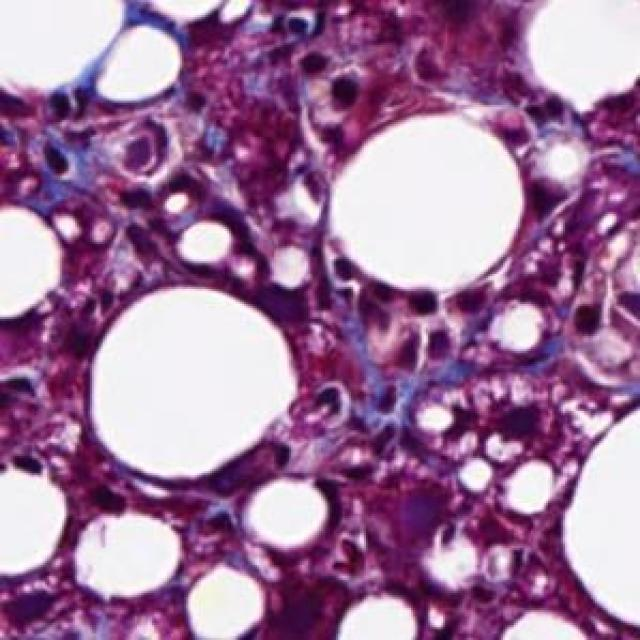inflammation: (32, 94, 191, 204), (340, 282, 469, 388), (282, 390, 402, 494), (443, 400, 563, 480), (454, 546, 556, 621)
